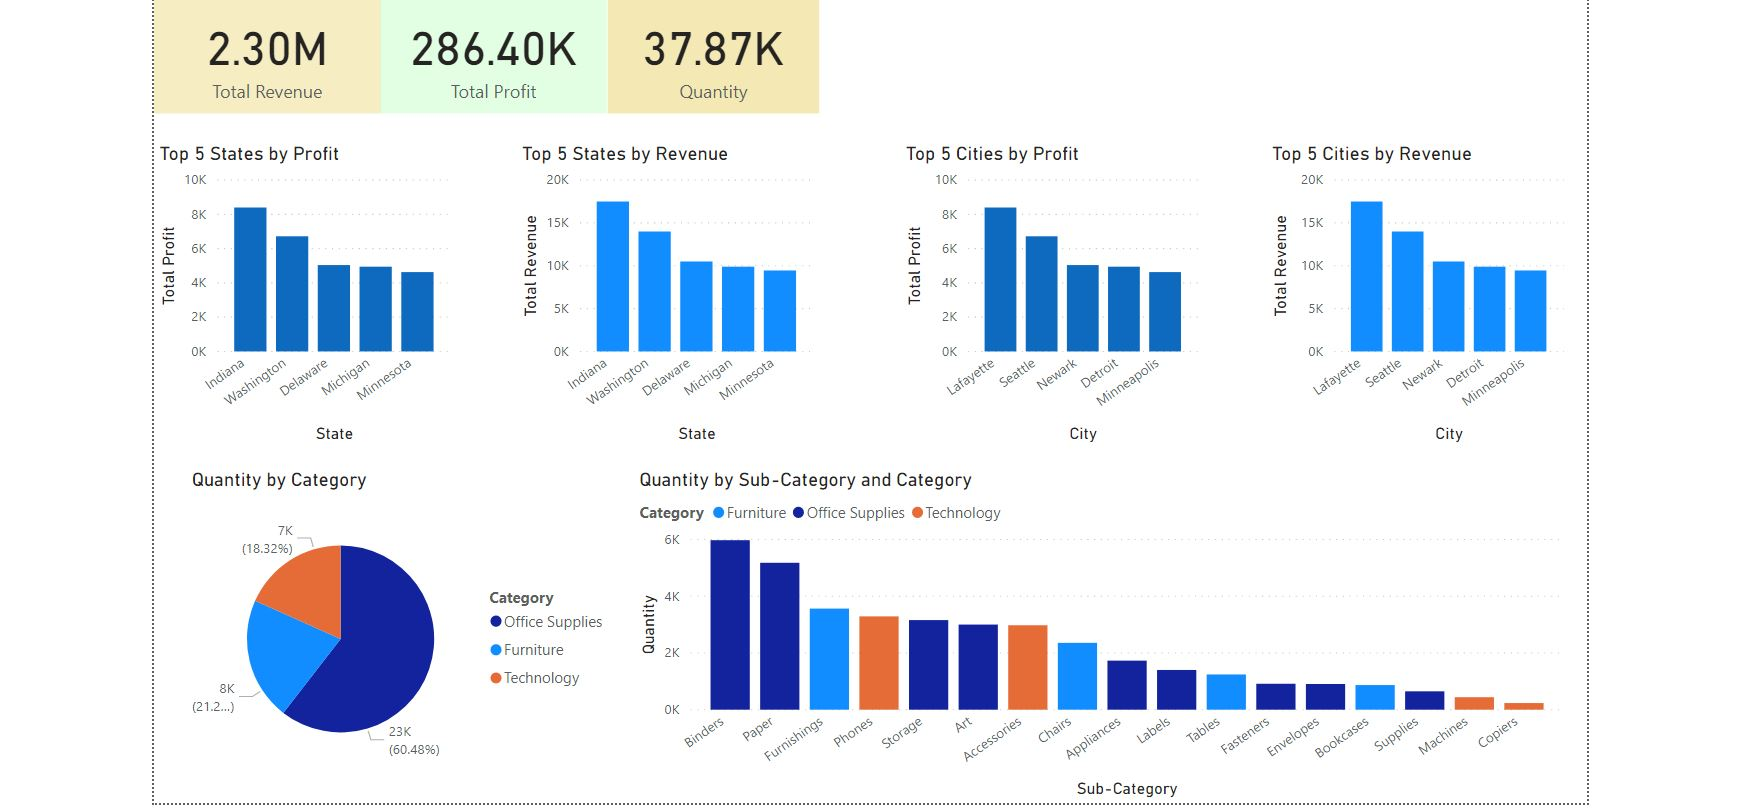

This screenshot's page, from the dashboard's own definition file:
{"tool":"powerbi","page":{"name":"Page 3","canvas":[1280,720],"ordinal":3},"visuals":[{"type":"columnChart","title":"Top 5 States by Profit","fields":{"Category":["SampleSuperstore.State"],"Y":["SampleSuperstore.Total Profit"]},"box":[0,129.7,270.3,272.7],"z":0},{"type":"columnChart","title":"Top 5 States by Revenue","fields":{"Category":["SampleSuperstore.State"],"Y":["SampleSuperstore.Total Revenue"]},"box":[323.6,129.7,270.3,272.7],"z":1000},{"type":"columnChart","title":"Top 5 Cities by Profit","fields":{"Category":["SampleSuperstore.City"],"Y":["SampleSuperstore.Total Profit"]},"box":[666.7,129.7,271.5,272.7],"z":2000},{"type":"columnChart","title":"Top 5 Cities by Revenue","fields":{"Category":["SampleSuperstore.City"],"Y":["SampleSuperstore.Total Revenue"]},"box":[993.9,129.7,270.3,272.7],"z":3000},{"type":"pieChart","fields":{"Category":["SampleSuperstore.Category"],"Y":["Sum(SampleSuperstore.Quantity)"]},"box":[29.1,420.6,385.5,286.1],"z":4000},{"type":"columnChart","fields":{"Category":["SampleSuperstore.Sub-Category"],"Y":["Sum(SampleSuperstore.Quantity)"],"Series":["SampleSuperstore.Category"]},"box":[429.1,420.6,835.2,299.4],"z":5000},{"type":"card","fields":{"Values":["SampleSuperstore.sales sum"]},"box":[0,0,202.4,104.2],"z":6000},{"type":"card","fields":{"Values":["SampleSuperstore.Profit sum"]},"box":[202.4,0,202.4,104.2],"z":7000},{"type":"card","fields":{"Values":["Sum(SampleSuperstore.Quantity)"]},"box":[404.8,0,189.1,104.2],"z":8000}]}

Visuals, with their boxes on the page's 1280x720 design canvas (x1, y1, x2, y2). These are canvas units, not pixel positions in the 1742x811 screenshot, which may show the page scaled, cropped or inside an application window:
"Top 5 States by Profit" columnChart: left=0, top=130, right=270, bottom=402
"Top 5 States by Revenue" columnChart: left=324, top=130, right=594, bottom=402
"Top 5 Cities by Profit" columnChart: left=667, top=130, right=938, bottom=402
"Top 5 Cities by Revenue" columnChart: left=994, top=130, right=1264, bottom=402
pieChart - SampleSuperstore.Category x Sum(SampleSuperstore.Quantity): left=29, top=421, right=415, bottom=707
columnChart - SampleSuperstore.Sub-Category x Sum(SampleSuperstore.Quantity): left=429, top=421, right=1264, bottom=720
card - SampleSuperstore.sales sum: left=0, top=0, right=202, bottom=104
card - SampleSuperstore.Profit sum: left=202, top=0, right=405, bottom=104
card - Sum(SampleSuperstore.Quantity): left=405, top=0, right=594, bottom=104
